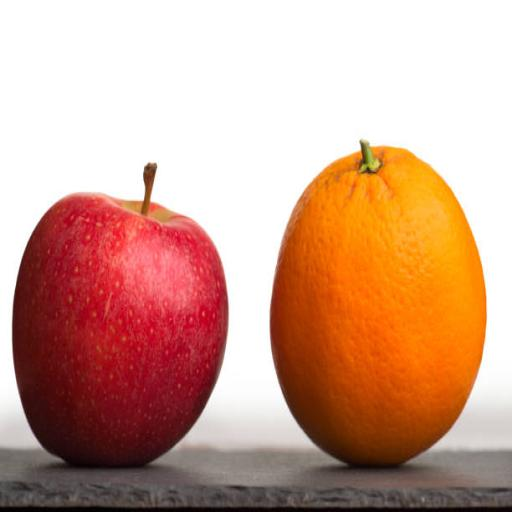apple: (13, 165, 228, 465)
orange: (271, 142, 486, 465)
